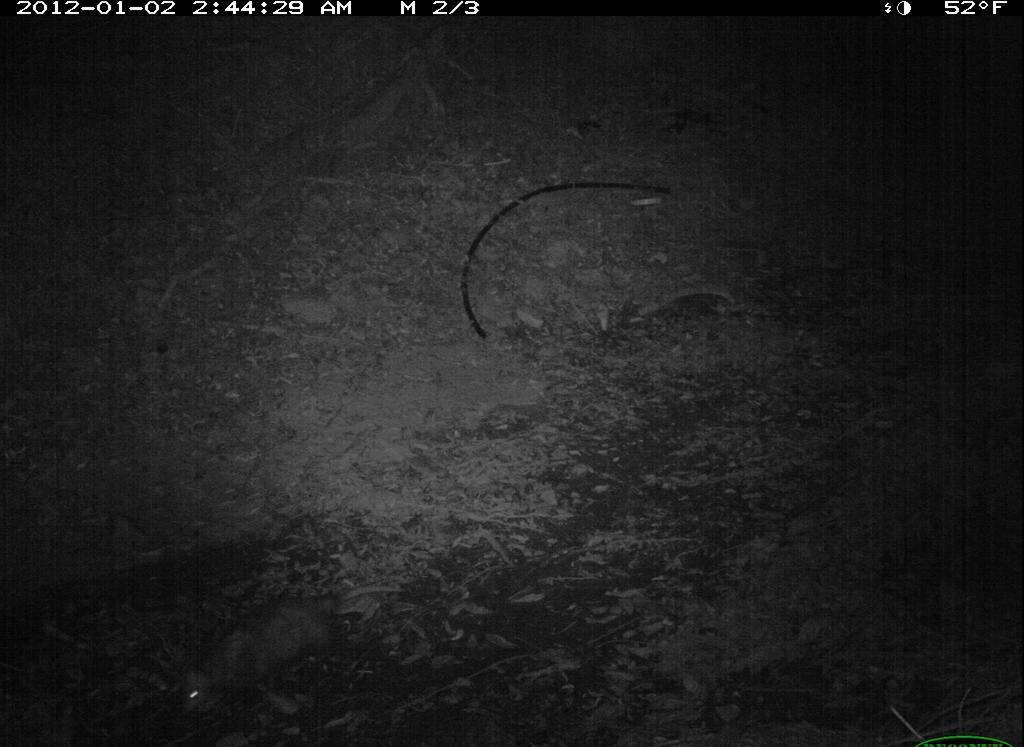opossum: (146, 582, 378, 730)
